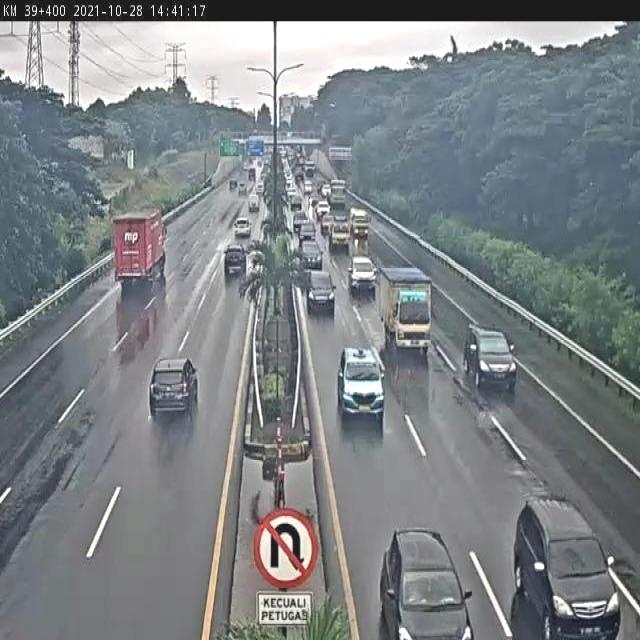Car: (512, 495, 622, 640), (338, 342, 384, 429), (146, 350, 202, 416), (463, 321, 517, 389), (305, 266, 335, 316), (348, 254, 379, 298), (224, 239, 247, 277), (350, 208, 370, 238), (300, 241, 322, 267), (232, 216, 254, 240)
Truck: (108, 201, 175, 294), (379, 262, 435, 360)
